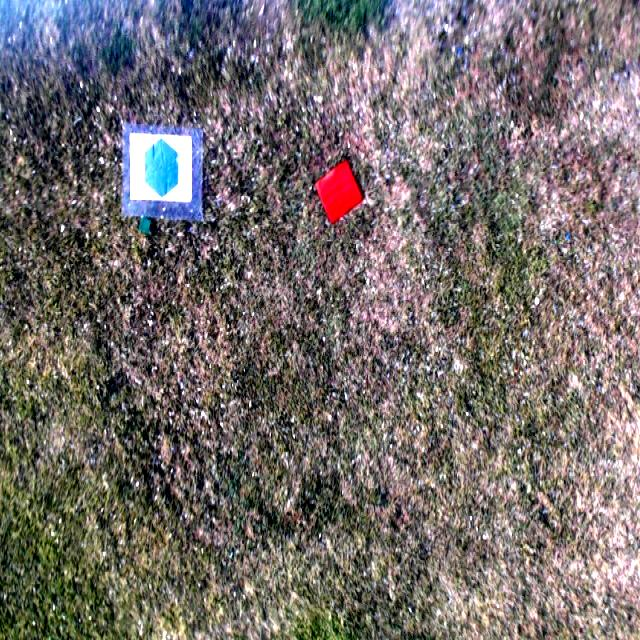blue_hexagon: (144, 138, 181, 198)
red_square: (314, 159, 364, 223)
